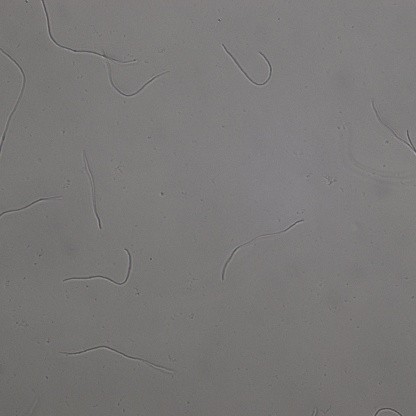Sensitive: (41, 1, 134, 63), (222, 217, 302, 278), (62, 345, 173, 373), (104, 51, 169, 96), (1, 49, 26, 152), (62, 249, 133, 285), (372, 100, 416, 151), (223, 45, 273, 86), (82, 151, 101, 228), (1, 195, 61, 217), (374, 407, 400, 416)
